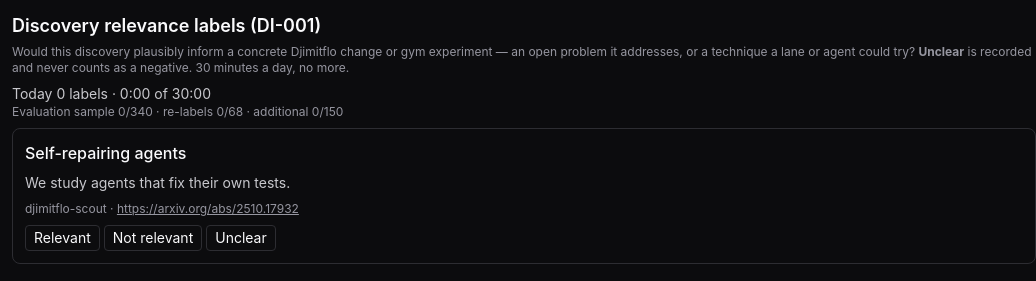
Scenario: shows a blind card (title, note, source, link — not the pass) and posts the answer with its seconds
The width and height of the screenshot is (1036, 281).
Expected: the heading "Self-repairing agents" is shown, top-left (25, 143), bottom-right (186, 163)
Expected: the text "We study agents that fix their own tests." is shown, top-left (25, 174), bottom-right (290, 191)
Click the button "Not relevant".
click(153, 238)  # box top-left (104, 225), bottom-right (202, 251)
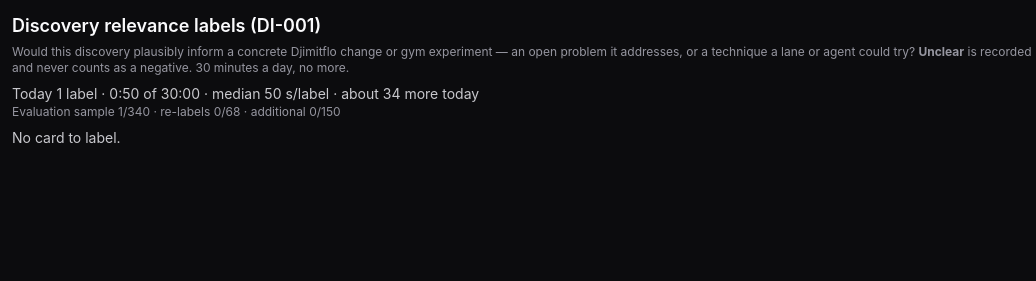
Expected: the text "No card to label." is shown, top-left (12, 129), bottom-right (121, 146)
Expected: the element named "Today's labelling quota" shows "0:50 of 30:00", top-left (12, 85), bottom-right (479, 119)
